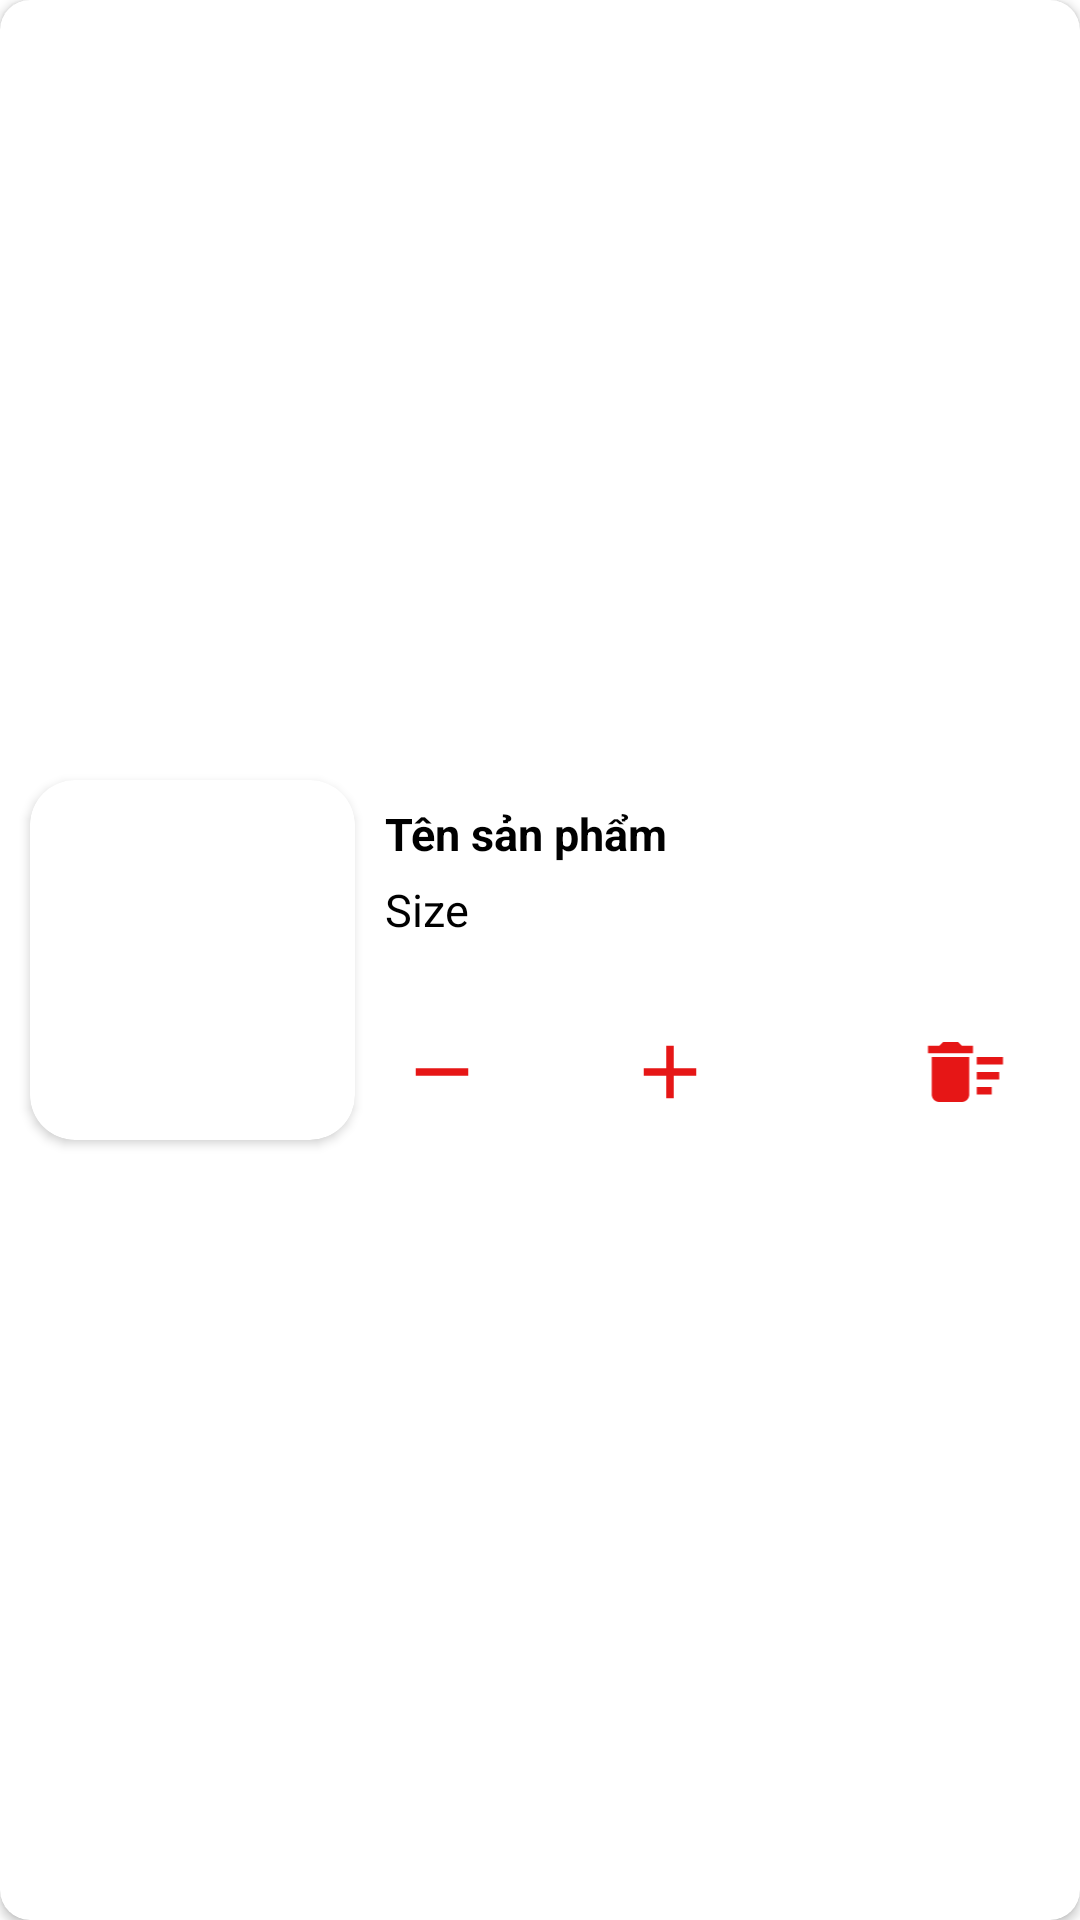

Where to tap for icons on this 1080px x 1920px app screen, as point (x, y):
add: point (670, 1072)
delete sweep: point (965, 1072)
